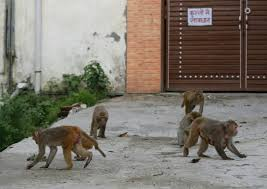monkey: (27, 114, 95, 185), (153, 118, 251, 153), (86, 85, 123, 150), (158, 83, 221, 110)
